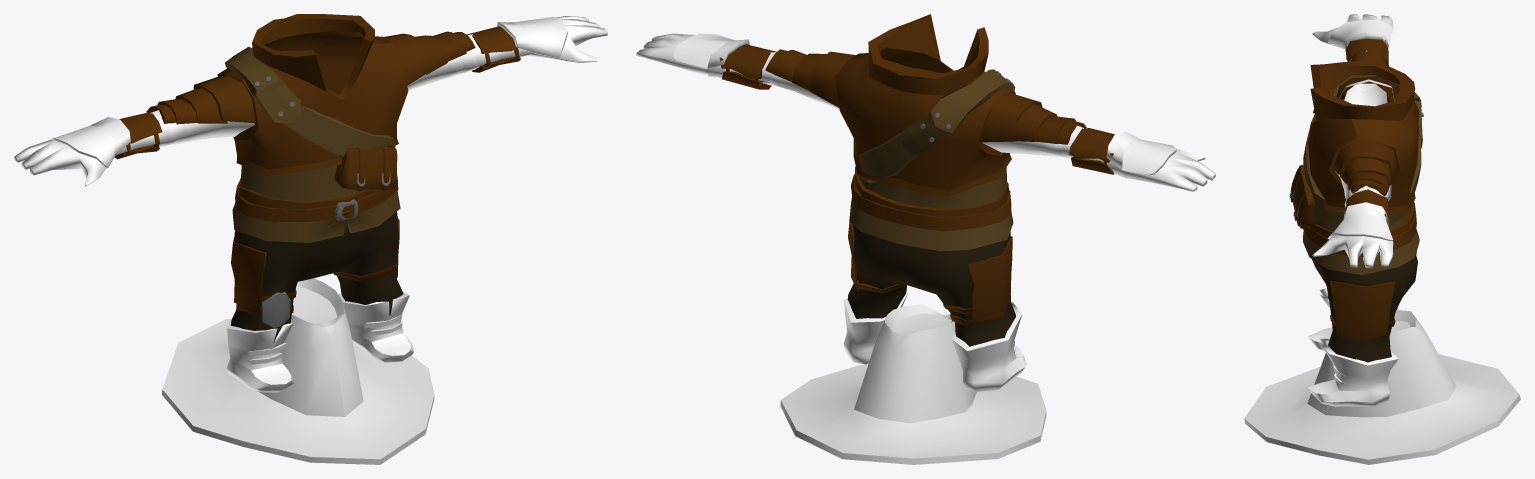
File: Monster_Hunter_Armor_complete.fbx
3 views of the same model, side by side, from view 1: azimuth 30°, elevation 25°; view 2: azimuth 150°, elevation 25°; view 3: azimuth 270°, elevation 25° (orthographic). The views are drawn at different scales.
Parts seen in each view (by area): view 1: Weste, Hat, Hose, Gloves, Boots; view 2: Weste, Hat, Hose, Gloves, Boots; view 3: Weste, Hat, Hose, Gloves, Boots.
Part boxes in pixels (box(x1,y1,x2,y2)): Weste: box(114, 14, 533, 242); Hat: box(162, 278, 434, 464); Hose: box(231, 212, 403, 343); Gloves: box(14, 16, 607, 186); Boots: box(226, 292, 413, 392); Weste: box(704, 14, 1126, 251); Hat: box(780, 304, 1046, 464); Hose: box(847, 221, 1015, 346); Gloves: box(636, 33, 1215, 191); Boots: box(843, 287, 1026, 391); Weste: box(1289, 38, 1423, 274); Hat: box(1244, 310, 1520, 464); Hose: box(1312, 251, 1417, 362); Gloves: box(1312, 14, 1393, 267); Boots: box(1307, 288, 1398, 406).
Size of the model in its own units: 5.5 by 3.58 by 2.58.
